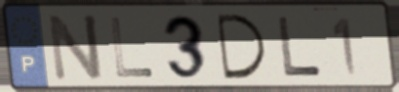1: (330, 16, 358, 77)
3: (161, 11, 215, 83)
D: (213, 12, 271, 82)
L: (275, 15, 325, 78), (107, 15, 156, 79)
N: (45, 12, 105, 84)
